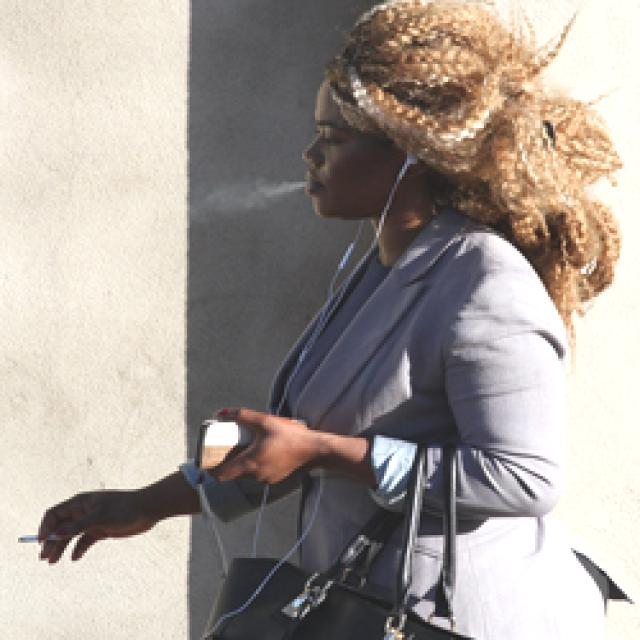Smooking: (16, 531, 43, 546)
